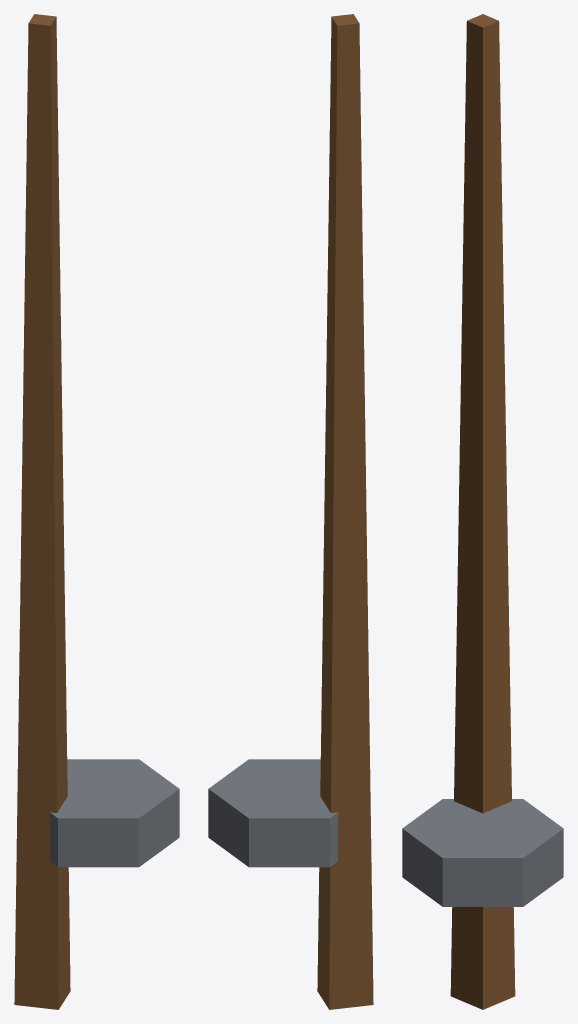
The model's file is good_19.glb.
3 renders of one model, left to right at view 1: azimuth 30°, elevation 25°; view 2: azimuth 150°, elevation 25°; view 3: azimuth 270°, elevation 25°, orthographic.
Parts seen in each view (by area): view 1: good_19; view 2: good_19; view 3: good_19.
Boxes of the visible parts, x1,y1,x2,y2 form: good_19: (14,14,179,1009); good_19: (208,14,373,1009); good_19: (402,14,563,1009).
Size of the model in its own units: 0.031 by 0.2 by 0.03.
